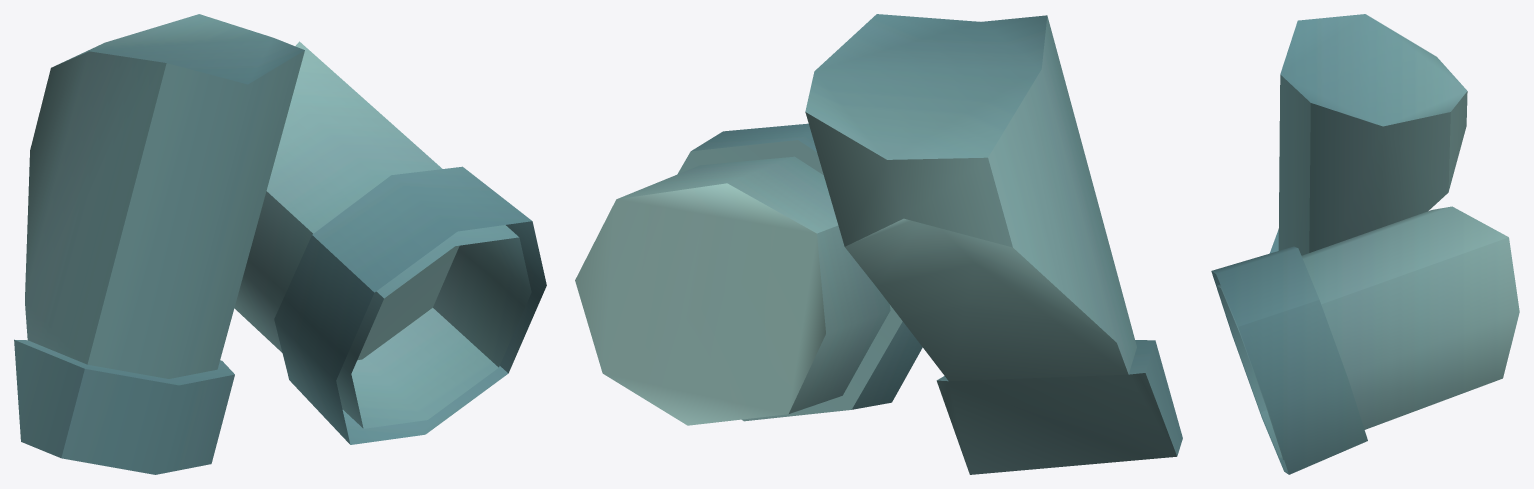
The model's file is Ruin 06.FBX.
3 views of the same model, side by side, from view 1: azimuth 30°, elevation 25°; view 2: azimuth 150°, elevation 25°; view 3: azimuth 270°, elevation 25° (orthographic). The views are drawn at different scales.
Visible parts, largest first — view 1: Ruin 06; view 2: Ruin 06; view 3: Ruin 06.
Part boxes in pixels (<box>): Ruin 06: <box>14,14,546,474</box>; Ruin 06: <box>575,14,1182,474</box>; Ruin 06: <box>1211,14,1519,474</box>.
Size of the model in its own units: 311 by 257 by 205.
Materials: 1 (1 with a texture image).
